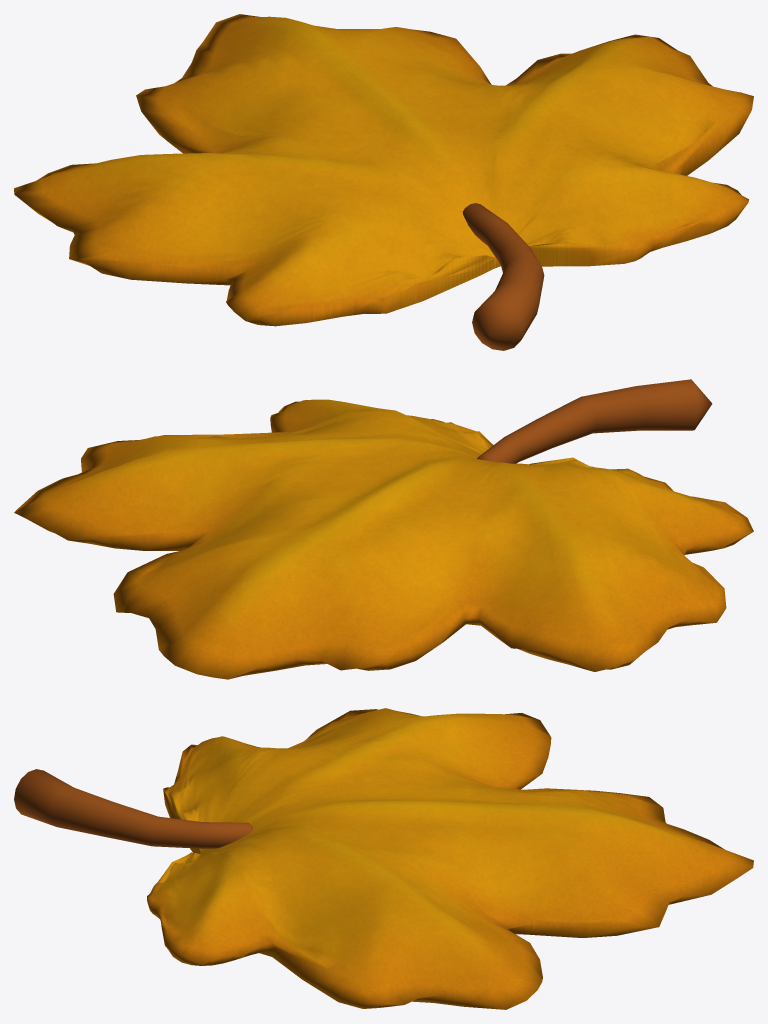
Rendered from leaf_yellow.glb.
3 renders of one model, top to bottom at view 1: azimuth 30°, elevation 25°; view 2: azimuth 150°, elevation 25°; view 3: azimuth 270°, elevation 25°, orthographic. The views are drawn at different scales.
Parts seen in each view (by area): view 1: model; view 2: model; view 3: model.
Boxes of the visible parts, x1=… form: model: x1=14, y1=14, x2=753, y2=350; model: x1=14, y1=379, x2=753, y2=679; model: x1=14, y1=708, x2=753, y2=1009.
Bounding box in the file's own units: 0.2971 × 0.0312 × 0.3144.
2 materials, 1 textured.
